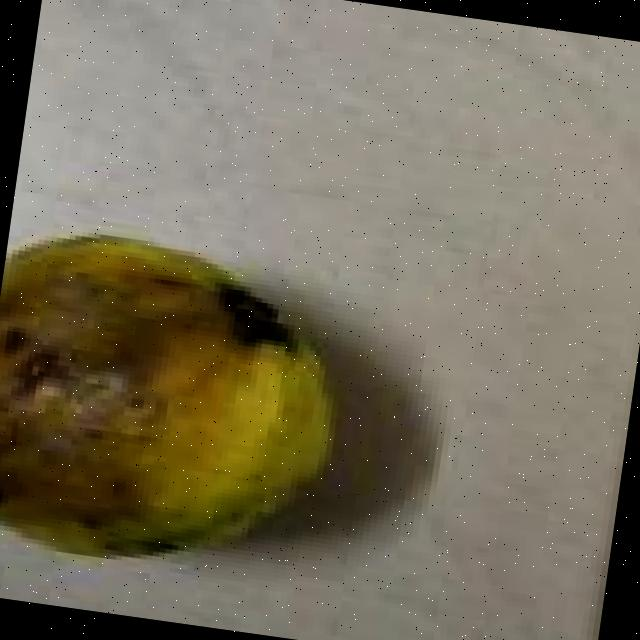Bad_Guava 0 day: (0, 237, 333, 554)
